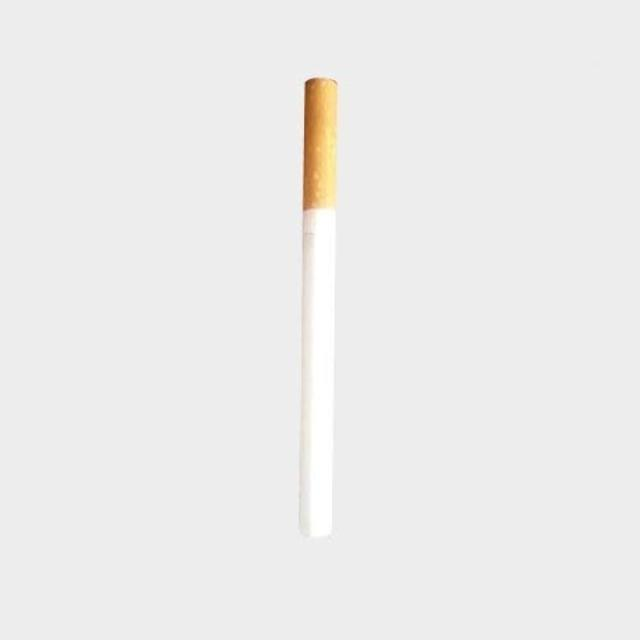Cigarette: (304, 78, 334, 539)
